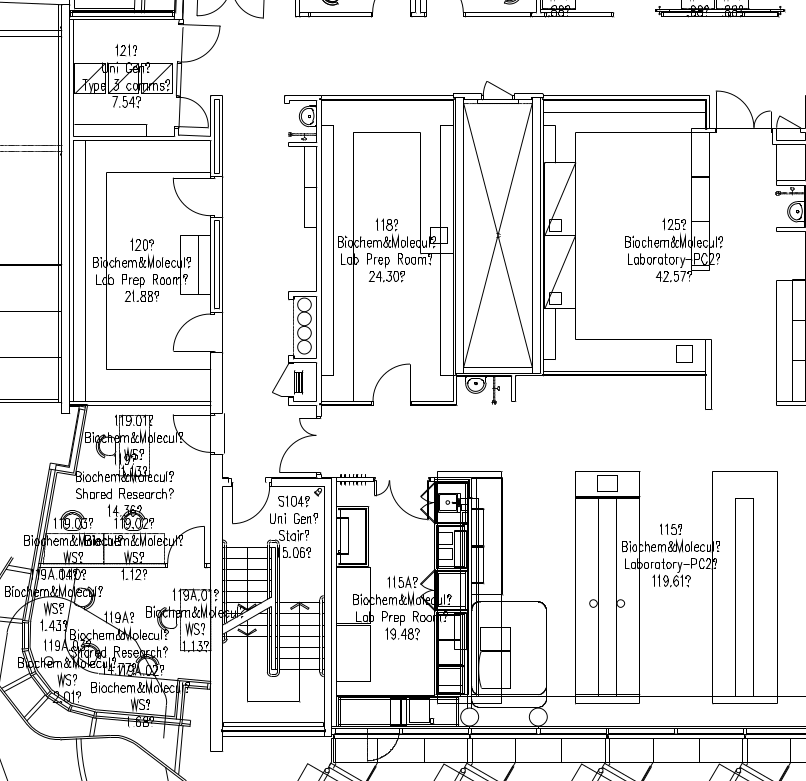door: (370, 471, 429, 527), (712, 86, 773, 134), (276, 411, 317, 476), (370, 355, 415, 408), (165, 520, 207, 568), (167, 412, 209, 460), (169, 174, 210, 222), (169, 308, 210, 356), (228, 478, 269, 526), (180, 21, 222, 67), (175, 93, 210, 132), (480, 77, 513, 110)
